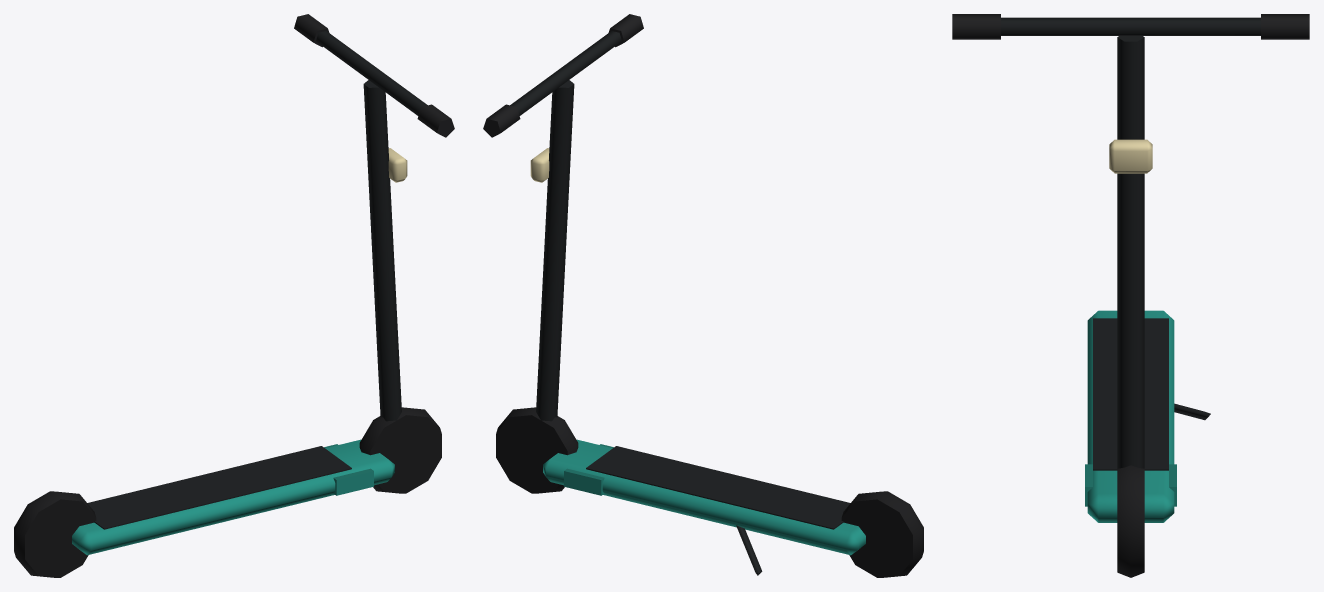
File: ScooterUpMIA.fbx
3 views of the same model, side by side, from view 1: azimuth 30°, elevation 25°; view 2: azimuth 150°, elevation 25°; view 3: azimuth 270°, elevation 25° (orthographic). The views are drawn at different scales.
Parts seen in each view (by area): view 1: ScooterUpMIA; view 2: ScooterUpMIA; view 3: ScooterUpMIA.
Boxes of the visible parts, box(x1,y1,x2,y2) form: ScooterUpMIA: box(14, 14, 454, 577); ScooterUpMIA: box(483, 14, 923, 577); ScooterUpMIA: box(952, 14, 1309, 577).
Bounding box in the file's own units: 1.13 × 1.1 × 0.66.
